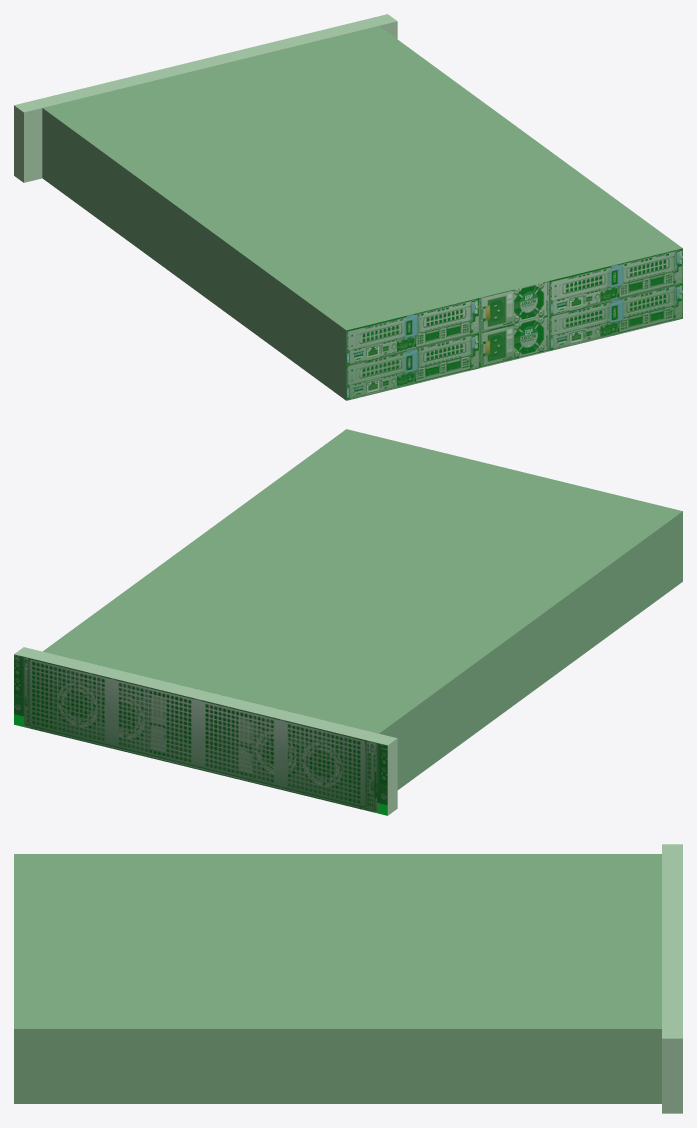
3 views of the same model, one above another, from view 1: azimuth 30°, elevation 25°; view 2: azimuth 150°, elevation 25°; view 3: azimuth 270°, elevation 25° (orthographic). The views are drawn at different scales.
Parts seen in each view (by area): view 1: Chassis_Cube; view 2: Chassis_Cube; view 3: Chassis_Cube.
Part boxes in pixels (box(x1,y1,x2,y2)): Chassis_Cube: box(14, 14, 682, 400); Chassis_Cube: box(14, 429, 682, 815); Chassis_Cube: box(14, 844, 682, 1113).
Bounding box in the file's own units: 0.6426 × 0.1157 × 0.9344.
